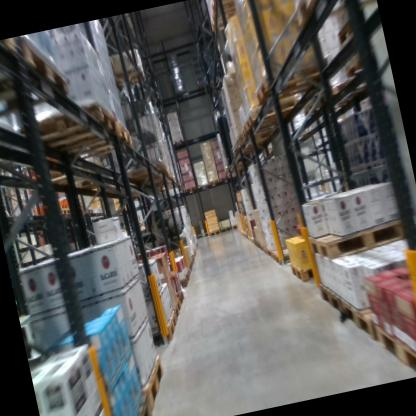pallet: (303, 203, 412, 269), (0, 35, 77, 122), (23, 100, 120, 160), (41, 113, 137, 167), (252, 58, 334, 106), (369, 306, 416, 383), (301, 78, 376, 122), (333, 288, 380, 353), (32, 153, 104, 189), (242, 94, 299, 130), (135, 354, 169, 409), (292, 0, 375, 22), (327, 13, 368, 55), (121, 157, 172, 186), (341, 50, 382, 83), (206, 2, 246, 34), (144, 311, 180, 345), (316, 282, 345, 324), (109, 62, 151, 90), (239, 112, 288, 134), (0, 37, 31, 70), (287, 257, 317, 287), (125, 390, 155, 416), (234, 131, 271, 149), (56, 199, 77, 218), (272, 246, 291, 265), (208, 0, 240, 11), (170, 297, 183, 321), (174, 84, 189, 104), (171, 134, 188, 150), (173, 272, 190, 287), (176, 289, 187, 307), (182, 183, 197, 195), (196, 179, 210, 190), (86, 205, 98, 217), (208, 228, 221, 237), (218, 174, 229, 184), (208, 177, 220, 186), (219, 225, 231, 233), (230, 223, 240, 230)
